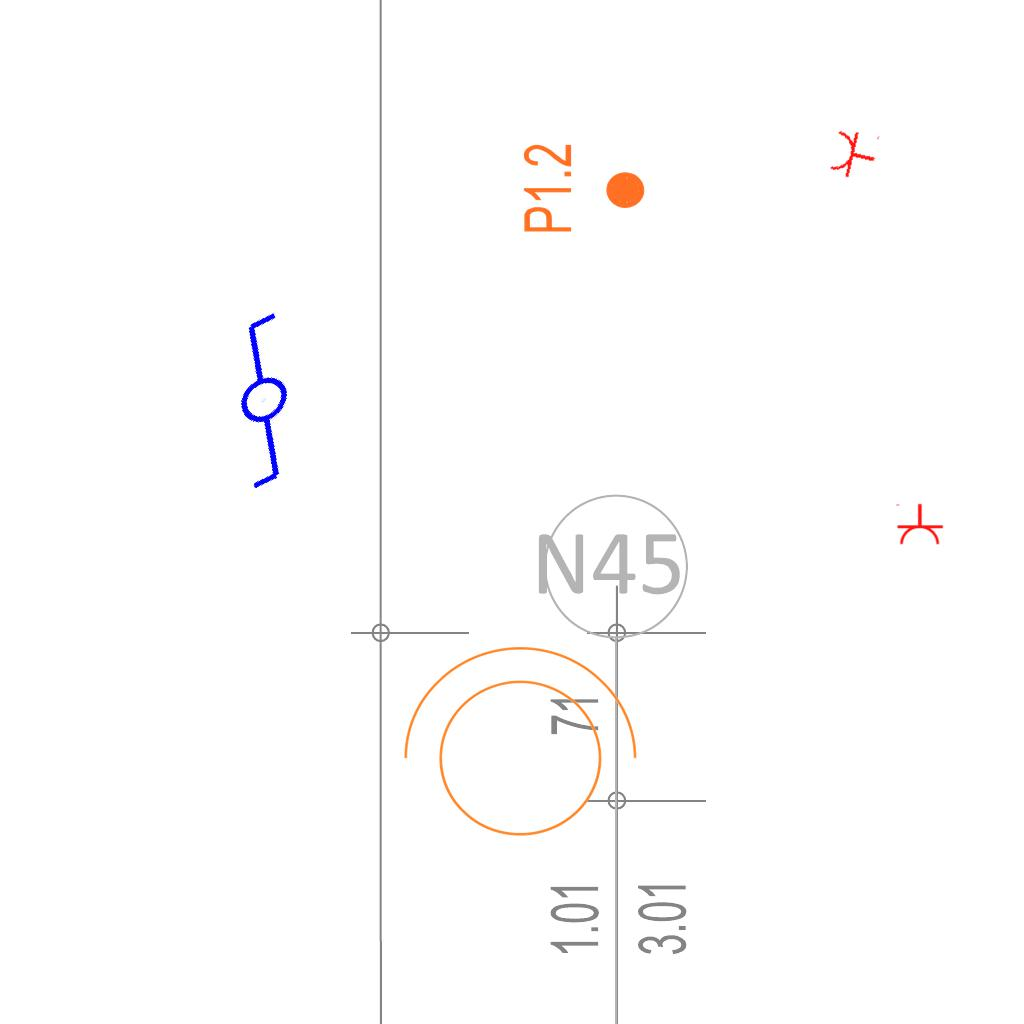Downlight_LED_Einbauleuchten_Flur: (520, 142, 648, 235)
Scheinwerfer_fuer_Alarmbeleuchtung: (382, 636, 646, 861)
Schukosteckdose_einfach: (827, 124, 882, 184), (894, 503, 944, 546)
Wechselschalter: (164, 289, 379, 503)
